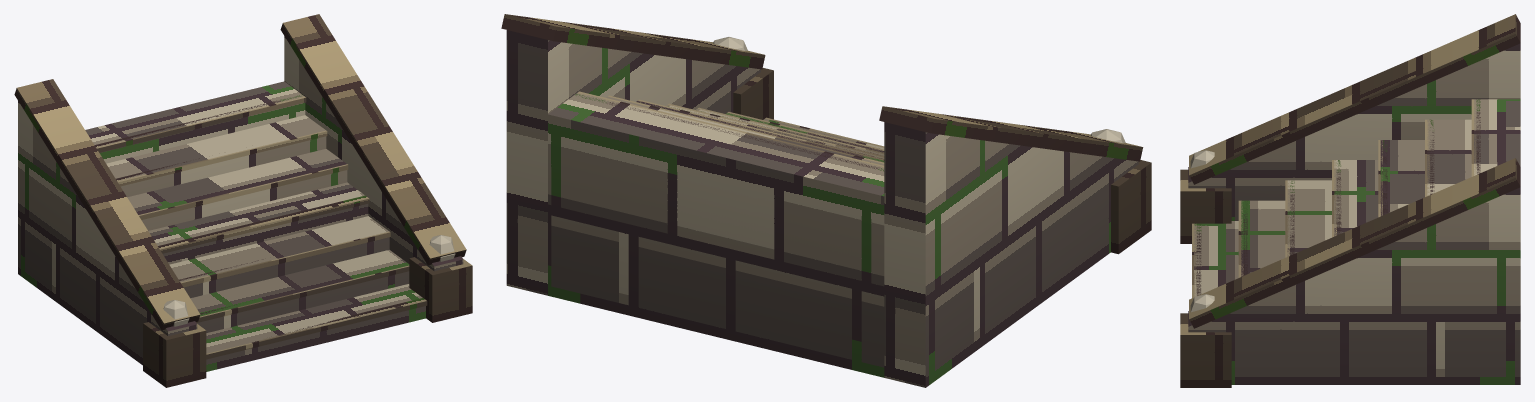
Rendered from scene_stair_plat_o1.glb.
The picture shows the model from 3 angles, left to right: view 1: azimuth 30°, elevation 25°; view 2: azimuth 150°, elevation 25°; view 3: azimuth 270°, elevation 25°; orthographic projection. The views are drawn at different scales.
Parts seen in each view (by area): view 1: scene_stair_plat_o1; view 2: scene_stair_plat_o1; view 3: scene_stair_plat_o1.
Boxes of the visible parts, left/top/right/bottom form: scene_stair_plat_o1: left=14, top=14, right=472, bottom=387; scene_stair_plat_o1: left=501, top=14, right=1151, bottom=387; scene_stair_plat_o1: left=1180, top=14, right=1520, bottom=387.
Size of the model in its own units: 3.36 by 1.98 by 2.92.
2 materials, 1 textured.
